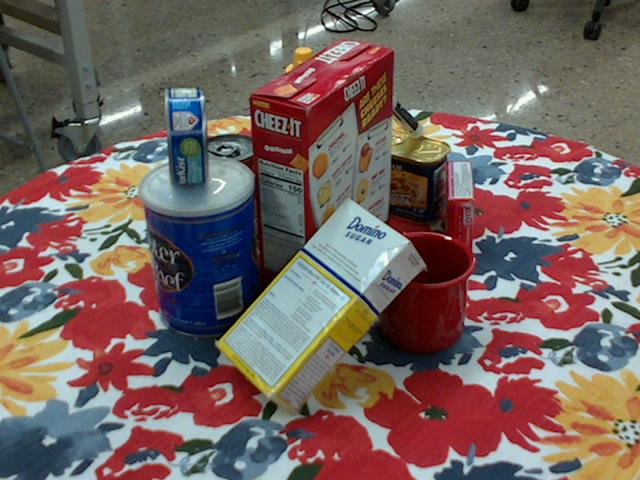cracker_box: (248, 40, 394, 310)
gelatin_box: (446, 160, 474, 258)
large_marker: (370, 82, 423, 137)
master_chef_can: (140, 157, 260, 340)
mug: (347, 230, 475, 352)
mustard_bottle: (267, 47, 350, 222)
potted_meat_can: (357, 126, 450, 224)
sugar_box: (216, 199, 425, 419)
tomato_soup_can: (196, 133, 265, 244)
tuna_fish_can: (164, 87, 208, 185)
